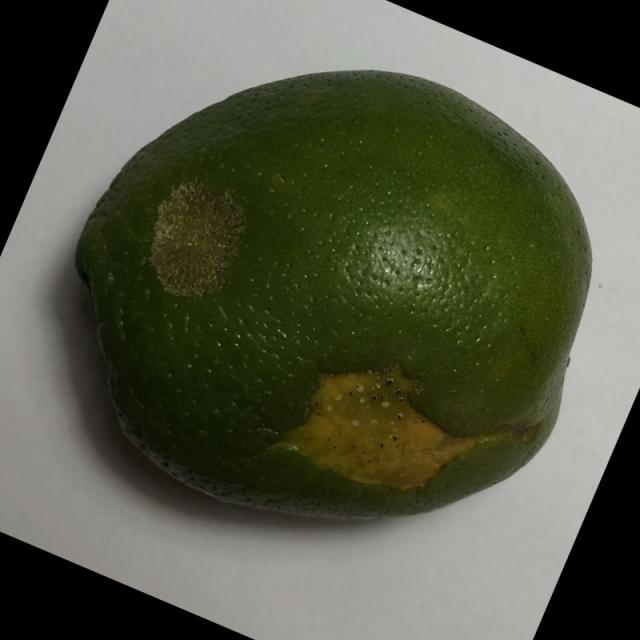canker: (44, 56, 608, 559)
